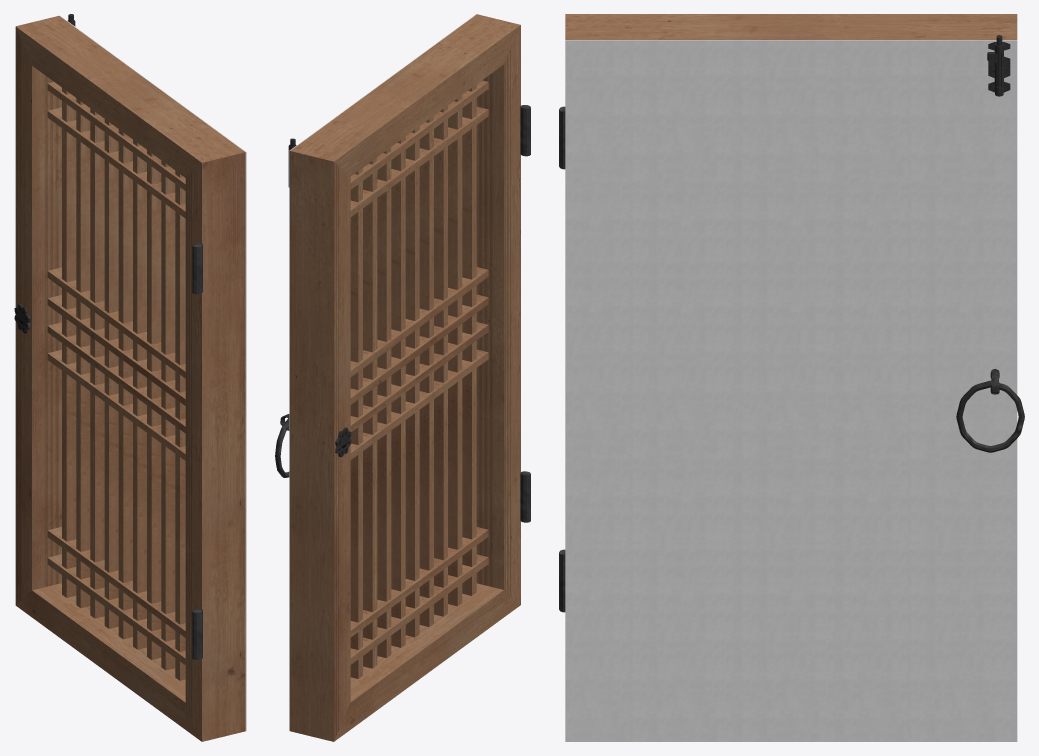
The model's file is SM_JSH_HG_WindowA.fbx.
The picture shows the model from 3 angles, left to right: view 1: azimuth 30°, elevation 25°; view 2: azimuth 150°, elevation 25°; view 3: azimuth 270°, elevation 25°; orthographic projection. The views are drawn at different scales.
Visible parts, largest first — view 1: SM_JSH_HG_WindowA; view 2: SM_JSH_HG_WindowA; view 3: SM_JSH_HG_WindowA.
Boxes of the visible parts, <box> form: SM_JSH_HG_WindowA: <box>14,14,246,741</box>; SM_JSH_HG_WindowA: <box>275,14,530,741</box>; SM_JSH_HG_WindowA: <box>559,14,1024,741</box>.
Bounding box in the file's own units: 9.24 × 43.56 × 73.02.
1 material, 1 textured.
